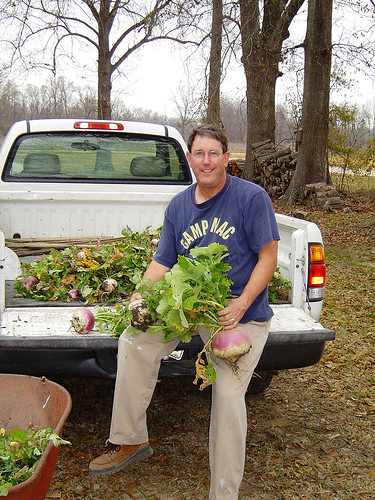turnip: (140, 242, 252, 393), (68, 306, 98, 336), (20, 270, 42, 296), (100, 270, 120, 297), (66, 282, 80, 300), (76, 248, 91, 263)
